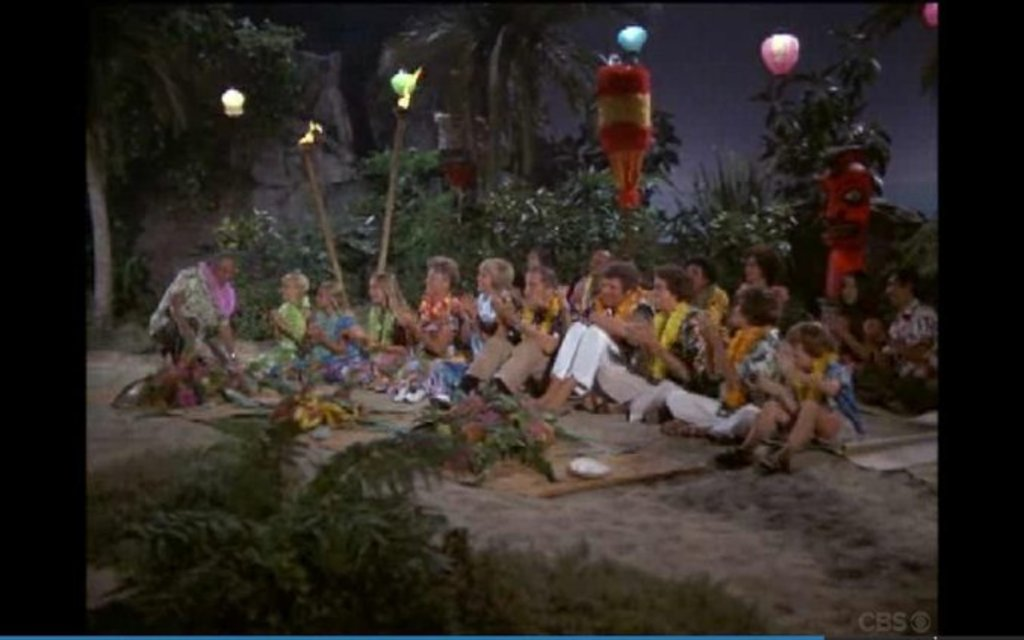Person: (149, 248, 937, 470)
